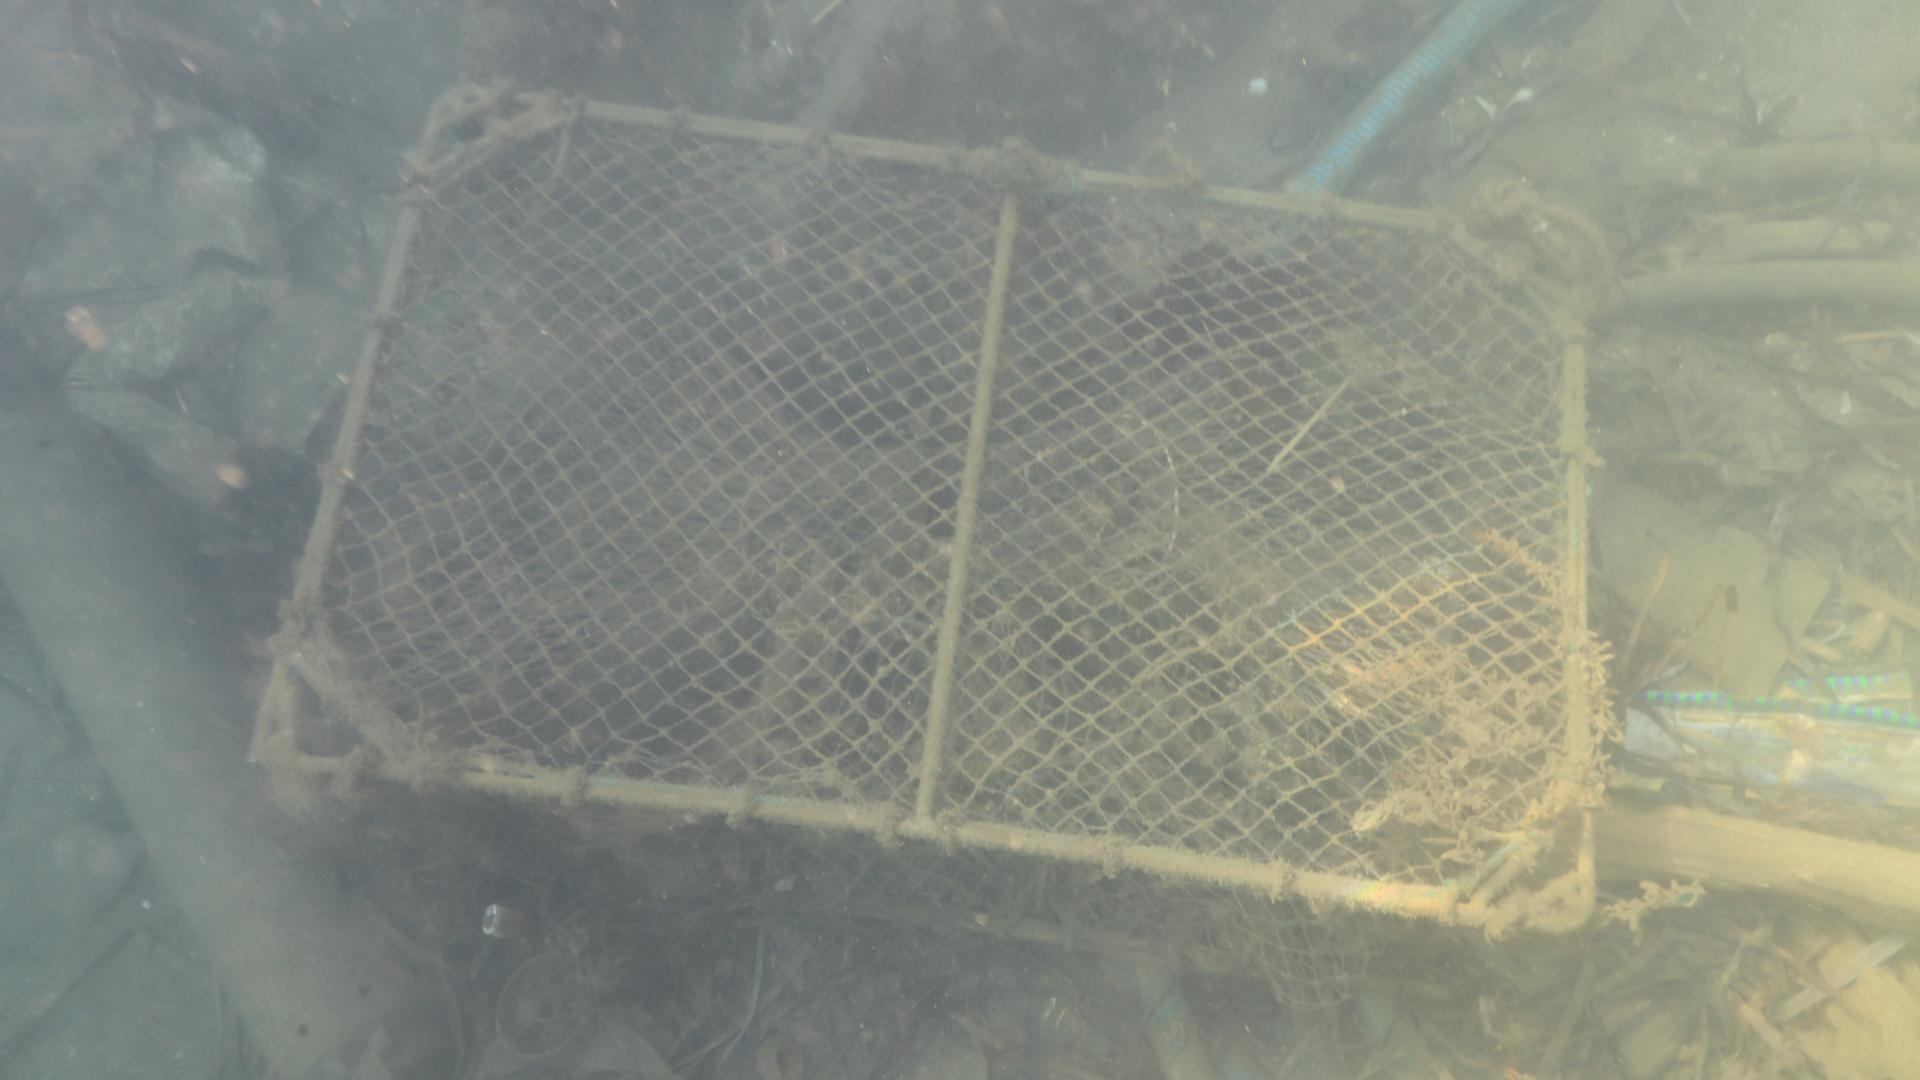eel fish trap: (3, 401, 458, 1080)
rectangular fish trap: (248, 82, 1607, 1015)
